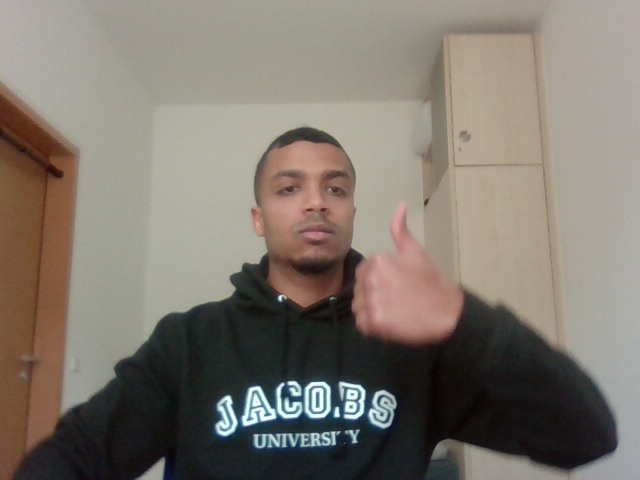perfect: (351, 189, 479, 373)
